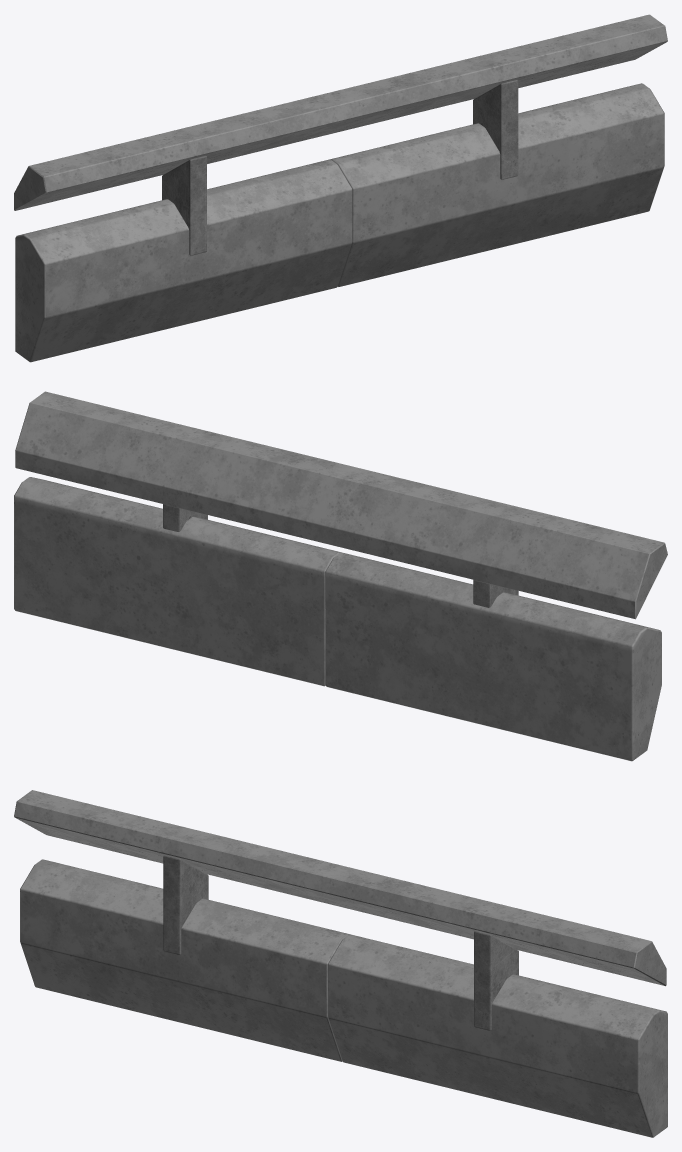
The model's file is SM_Railing_01.fbx.
The picture shows the model from 3 angles, top to bottom: view 1: azimuth 30°, elevation 25°; view 2: azimuth 150°, elevation 25°; view 3: azimuth 330°, elevation 25°; orthographic projection.
Visible parts, largest first — view 1: SM_Railing_01; view 2: SM_Railing_01; view 3: SM_Railing_01.
Boxes of the visible parts, <box> form: SM_Railing_01: <box>14,14,667,362</box>; SM_Railing_01: <box>14,391,667,761</box>; SM_Railing_01: <box>14,790,667,1137</box>.
Bounding box in the file's own units: 801 × 244 × 74.93.
